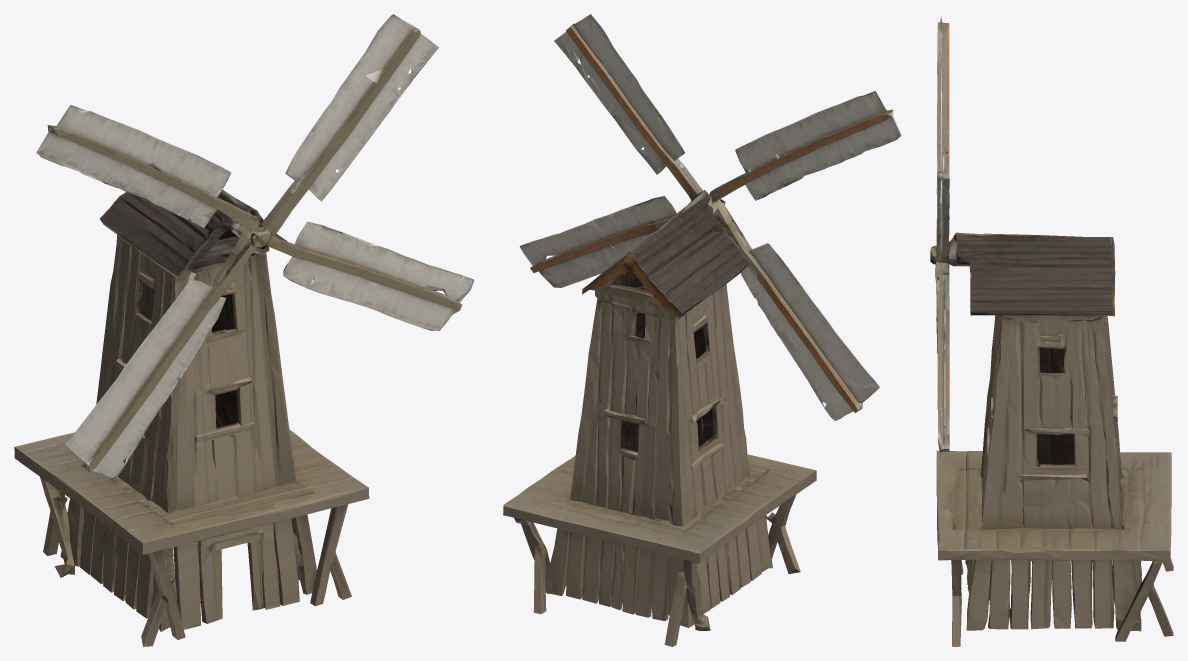
The model's file is windmill.obj.
3 views of the same model, side by side, from view 1: azimuth 30°, elevation 25°; view 2: azimuth 150°, elevation 25°; view 3: azimuth 270°, elevation 25° (orthographic). The views are drawn at different scales.
Visible parts, largest first — view 1: windmill_0603102257_texture; view 2: windmill_0603102257_texture; view 3: windmill_0603102257_texture.
Part boxes in pixels (<box>): windmill_0603102257_texture: <box>14,14,474,646</box>; windmill_0603102257_texture: <box>503,14,901,646</box>; windmill_0603102257_texture: <box>930,16,1173,646</box>.
Bounding box in the file's own units: 1.58 × 1.99 × 0.8497.
